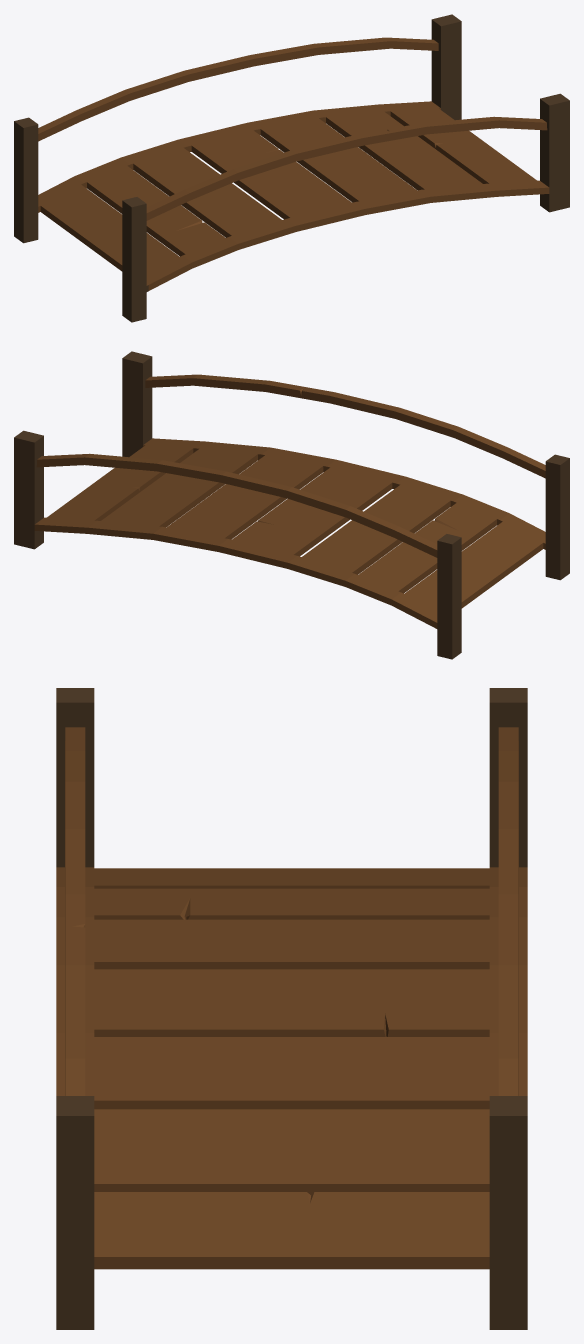
The model's file is Bridge.fbx.
3 views of the same model, one above another, from view 1: azimuth 30°, elevation 25°; view 2: azimuth 150°, elevation 25°; view 3: azimuth 270°, elevation 25° (orthographic). The views are drawn at different scales.
Visible parts, largest first — view 1: Cube; view 2: Cube; view 3: Cube.
Part boxes in pixels (bbox=[...]): Cube: bbox=[14, 14, 569, 322]; Cube: bbox=[14, 351, 569, 659]; Cube: bbox=[56, 688, 527, 1329].
Size of the model in its own units: 2955 by 814 by 1375.
